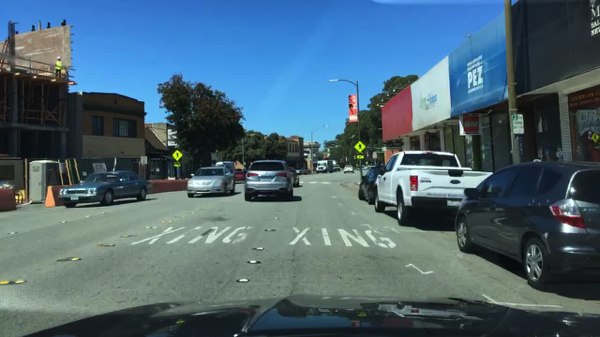car: (454, 159, 600, 288), (374, 150, 492, 225), (56, 169, 147, 208), (243, 158, 294, 202), (186, 166, 236, 199), (358, 164, 385, 204), (286, 167, 300, 187), (235, 169, 246, 181), (342, 163, 353, 172), (333, 164, 340, 172), (297, 169, 302, 174)
person: (54, 57, 63, 79)
traffic sign: (511, 113, 523, 135), (171, 150, 184, 160), (354, 143, 365, 151), (140, 156, 147, 164), (354, 155, 364, 159), (174, 161, 182, 166), (372, 151, 377, 158)
truck: (316, 160, 333, 173)
